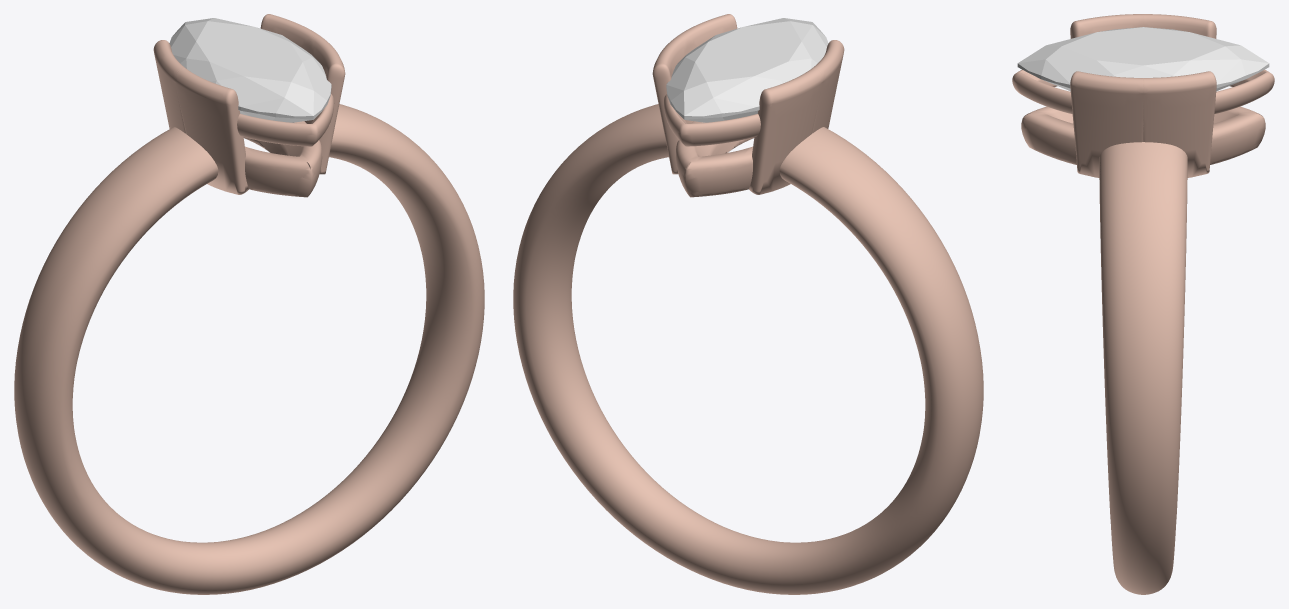
The model's file is diamond-marquise-rosegold-halfmoonbezel-taperedband-nosidestones.glb.
3 views of the same model, side by side, from view 1: azimuth 30°, elevation 25°; view 2: azimuth 150°, elevation 25°; view 3: azimuth 270°, elevation 25° (orthographic).
Visible parts, largest first — view 1: metal.006, stone; view 2: metal.006, stone; view 3: metal.006, stone.
Part boxes in pixels (<box>): metal.006: <box>14,14,484,594</box>; stone: <box>169,18,331,122</box>; metal.006: <box>513,14,983,594</box>; stone: <box>666,18,828,122</box>; metal.006: <box>1012,14,1274,594</box>; stone: <box>1017,27,1269,91</box>.
Size of the model in its own units: 20.48 by 22.93 by 10.4.
